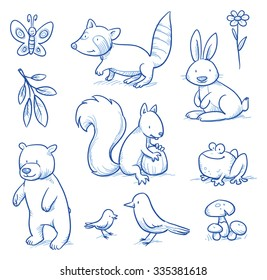animal: (72, 7, 180, 92), (74, 94, 173, 179), (11, 140, 75, 248), (185, 30, 252, 126), (194, 137, 255, 188)
bird: (123, 194, 190, 242), (9, 14, 54, 59), (85, 206, 117, 242)
flower: (224, 8, 254, 70)
tree: (12, 66, 56, 126)
